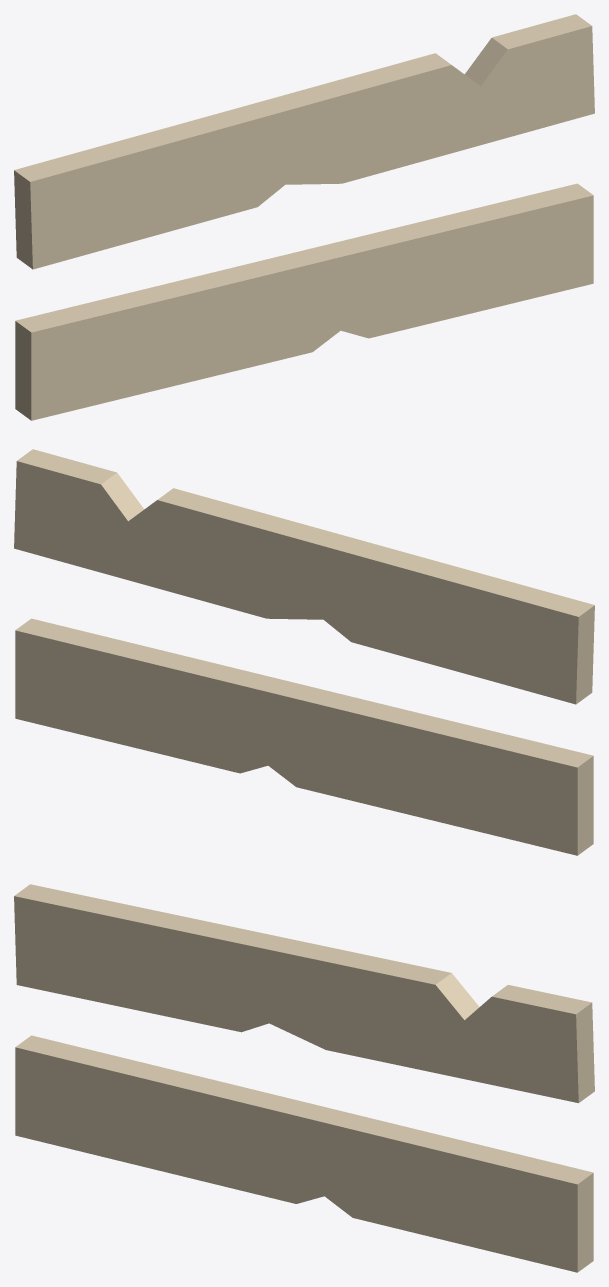
The model's file is Prop_Fence_Boards_1.gltf.
3 views of the same model, one above another, from view 1: azimuth 30°, elevation 25°; view 2: azimuth 150°, elevation 25°; view 3: azimuth 330°, elevation 25° (orthographic).
Visible parts, largest first — view 1: object1, object2; view 2: object1, object2; view 3: object1, object2.
Boxes of the visible parts, x1,y1,x2,y2 form: object1: (15, 183, 593, 420); object2: (14, 14, 594, 269); object1: (15, 618, 593, 855); object2: (14, 449, 594, 704); object1: (15, 1035, 593, 1272); object2: (14, 884, 594, 1103).
Bounding box in the file's own units: 1 × 0.4384 × 0.05.
